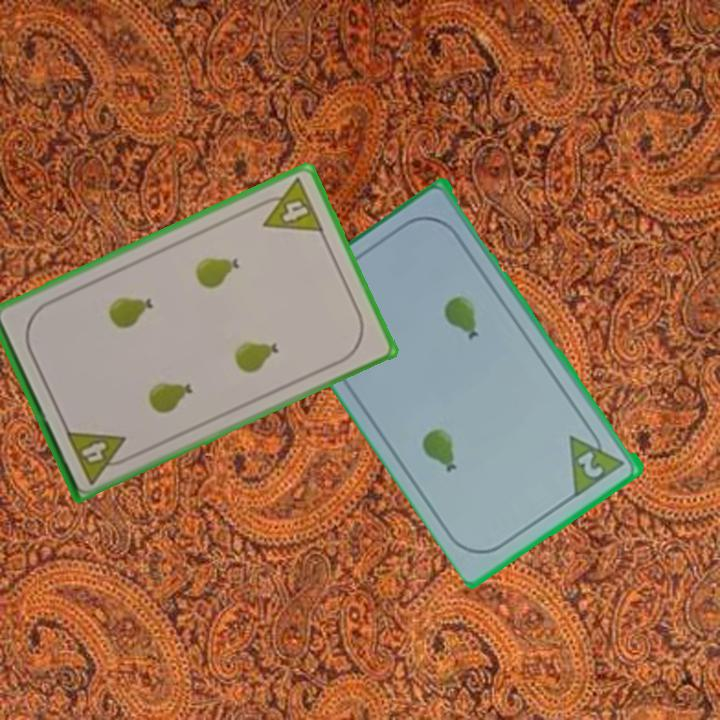2p: (565, 421, 629, 499)
4p: (251, 174, 327, 235), (62, 426, 135, 487)
